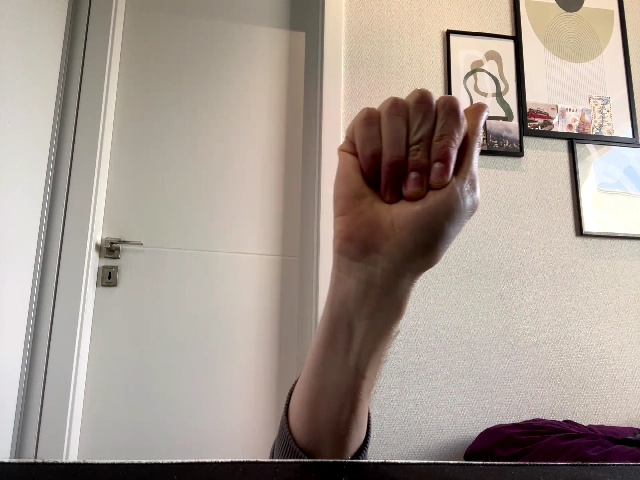A: (332, 88, 488, 282)
